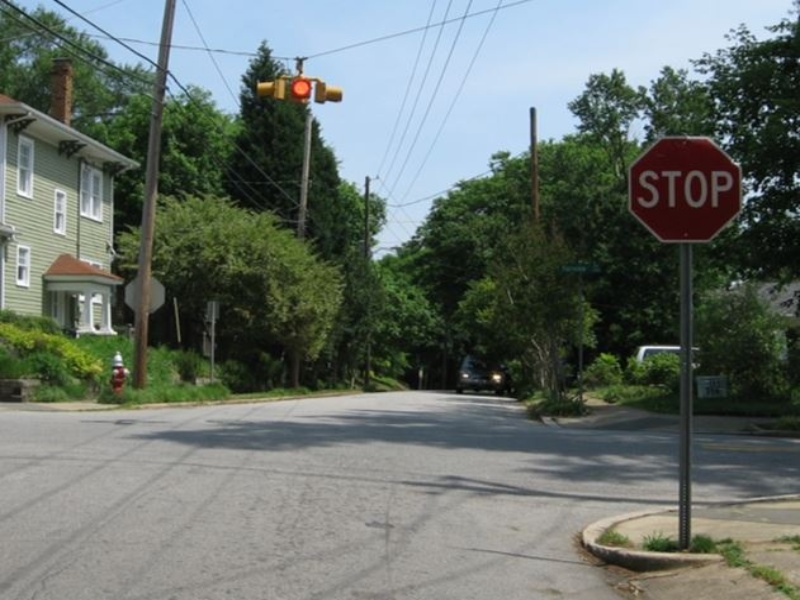stop sign: (624, 133, 746, 247)
